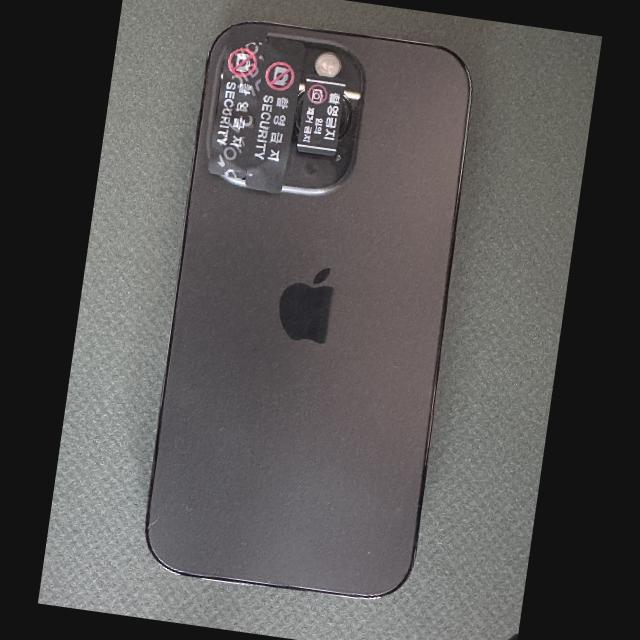lens: (292, 90, 305, 134)
phone: (145, 20, 474, 600)
sticker: (245, 37, 305, 193), (208, 26, 269, 179), (297, 75, 346, 156)
